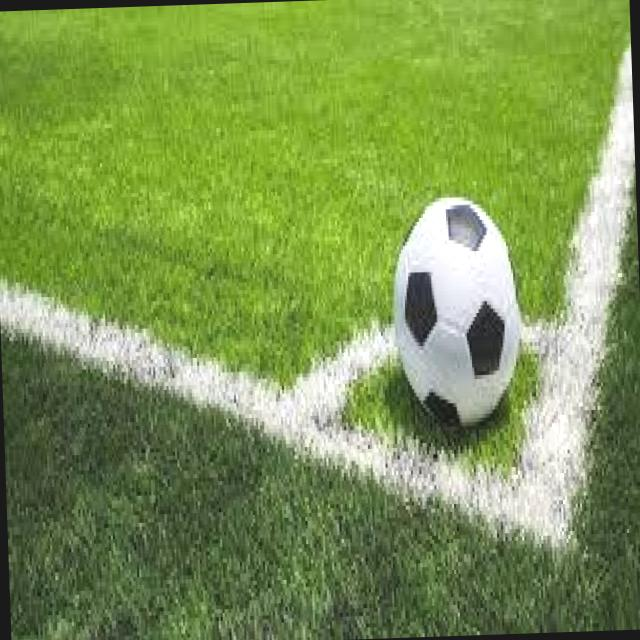Soccer Ball: (388, 195, 525, 447)
